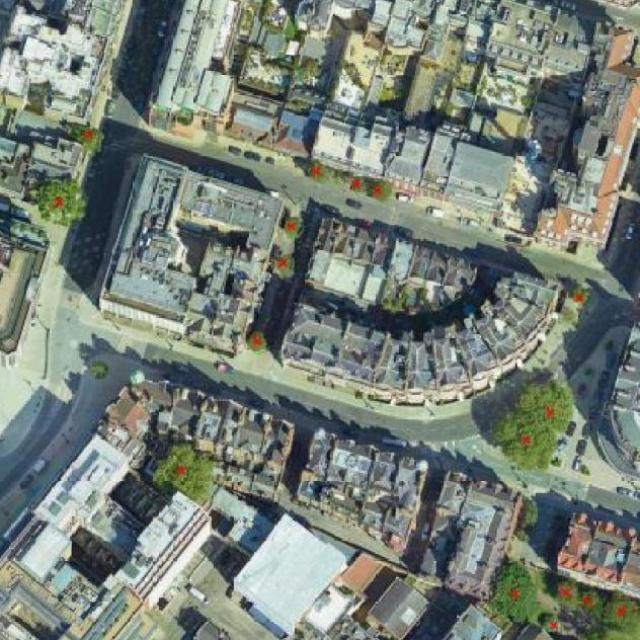tree: (486, 412, 559, 474), (151, 442, 216, 506), (509, 381, 576, 438), (488, 560, 540, 624), (38, 175, 89, 230), (602, 591, 640, 639), (67, 123, 107, 155), (299, 158, 335, 184), (552, 577, 581, 609), (517, 496, 540, 529), (368, 177, 394, 203), (579, 589, 602, 614), (282, 217, 304, 241), (273, 254, 295, 278), (247, 331, 268, 353), (88, 360, 110, 381), (570, 286, 591, 307), (541, 614, 561, 634), (559, 306, 576, 329), (351, 175, 368, 192), (512, 528, 530, 544)
